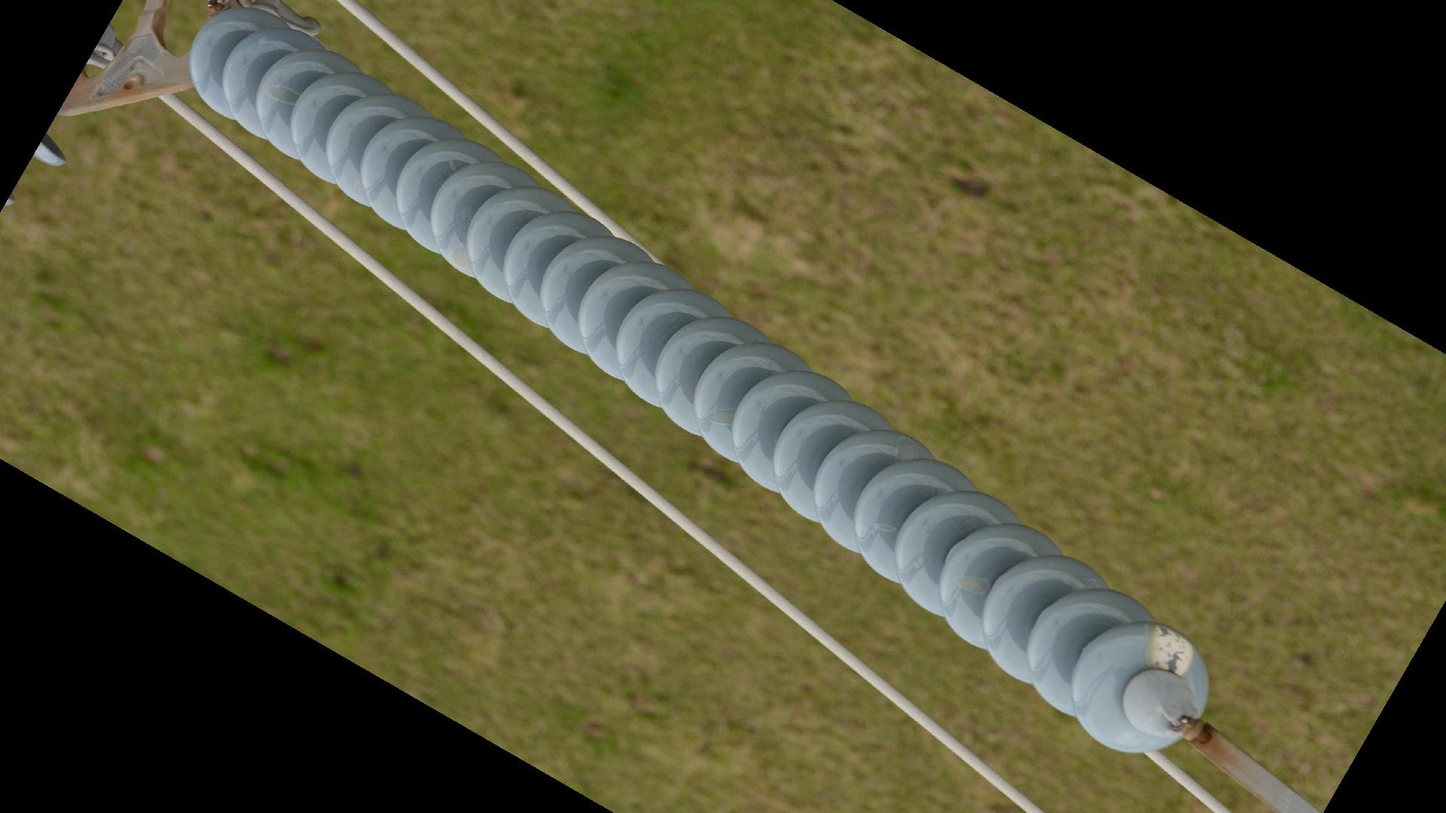insulator: (182, 1, 1218, 760)
insulator_flashover: (1140, 621, 1197, 679)
